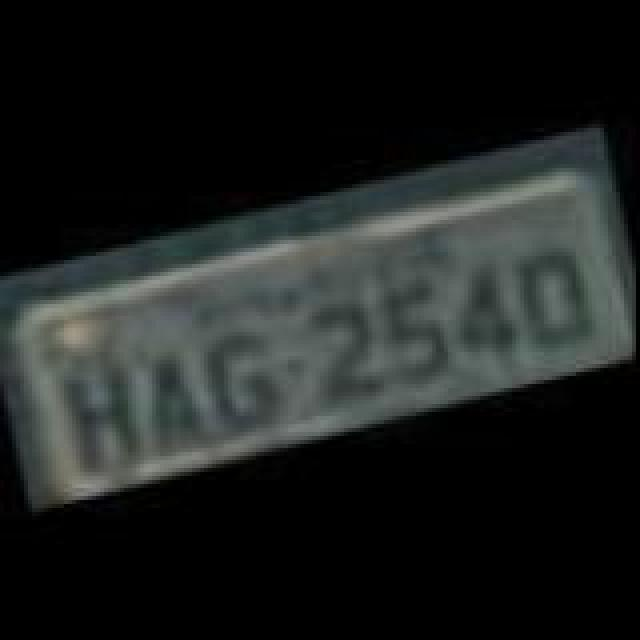2: (298, 298, 390, 410)
4: (436, 256, 532, 376)
5: (372, 274, 468, 390)
A: (136, 342, 220, 458)
G: (196, 320, 296, 440)
H: (54, 352, 150, 472)
O: (506, 236, 606, 356)
